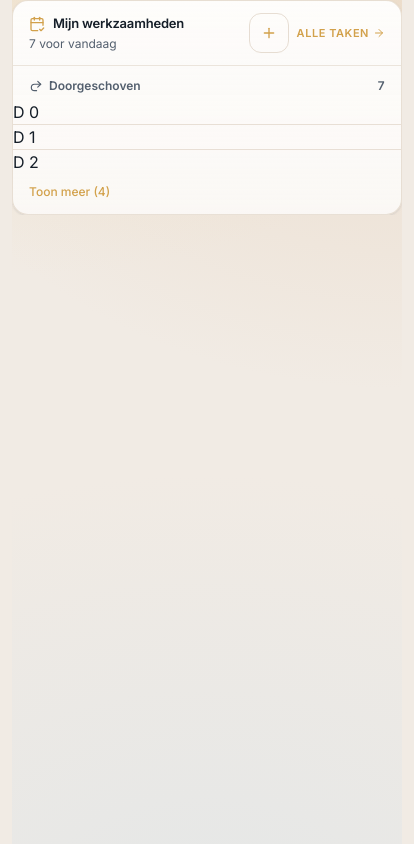
Scenario: DashboardWerklijst › mobiel: standaard 3 per groep; Toon meer maakt alle taken van de groep zichtbaar
Click the button with test id "werklijst-toon-meer": (70, 192) [13, 174, 401, 210]
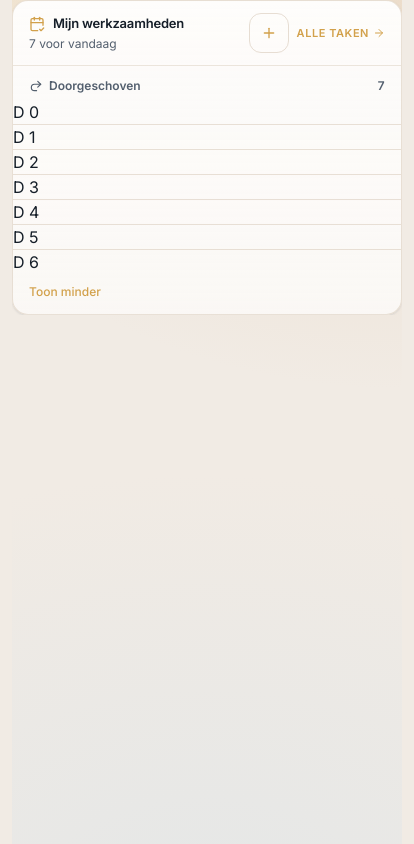
Expected: the button with test id "werklijst-toon-meer" is expanded
Click the button with test id "werklijst-toon-meer": (65, 292) [13, 274, 401, 310]
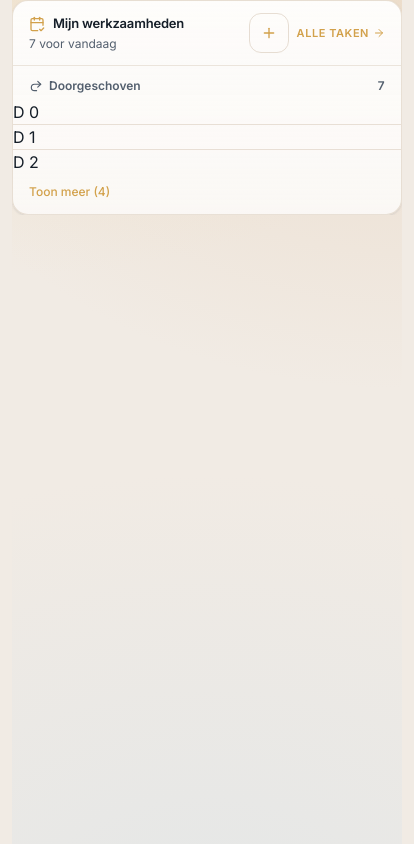
Expected: the button with test id "werklijst-toon-meer" reads "Toon meer (4)", [13, 174, 401, 210]
